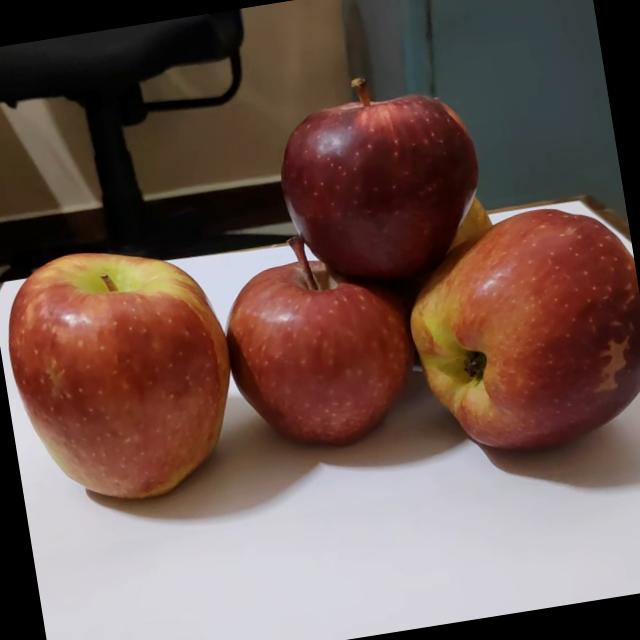apple: (376, 190, 640, 469), (0, 224, 244, 523), (250, 54, 494, 298), (200, 213, 424, 461), (412, 177, 498, 261)
